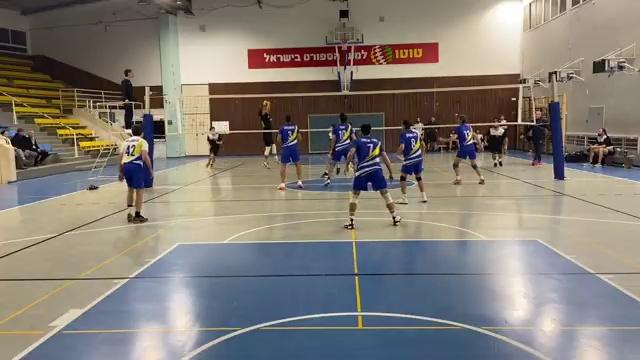ball: (263, 100, 270, 106)
